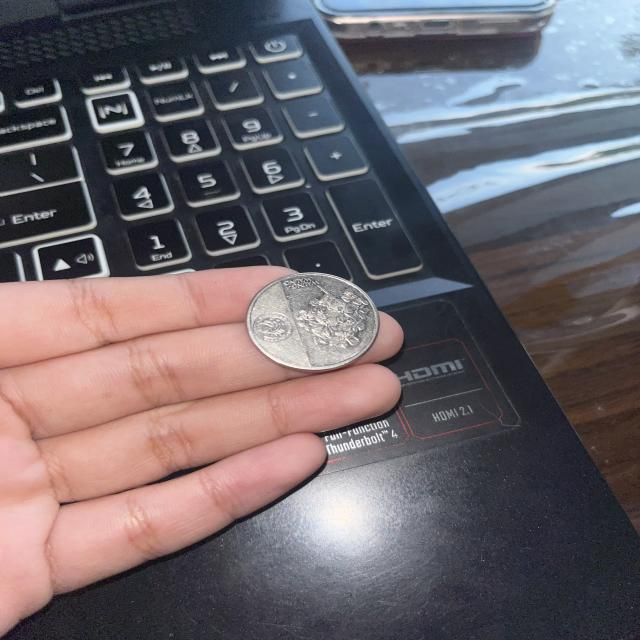1_New_Back: (292, 282, 381, 356)
